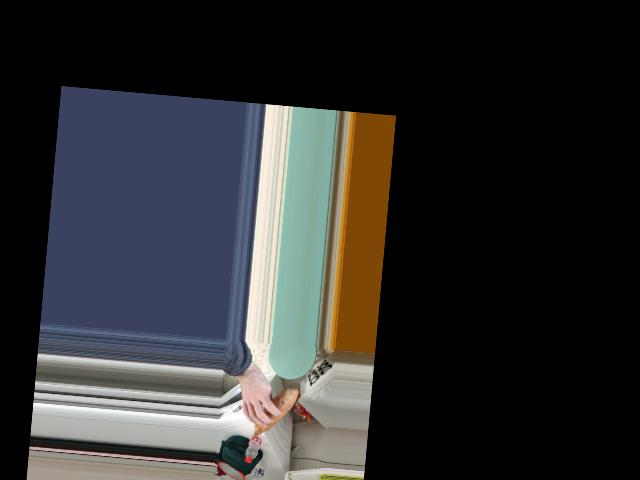sweet_potato: (242, 390, 296, 437)
